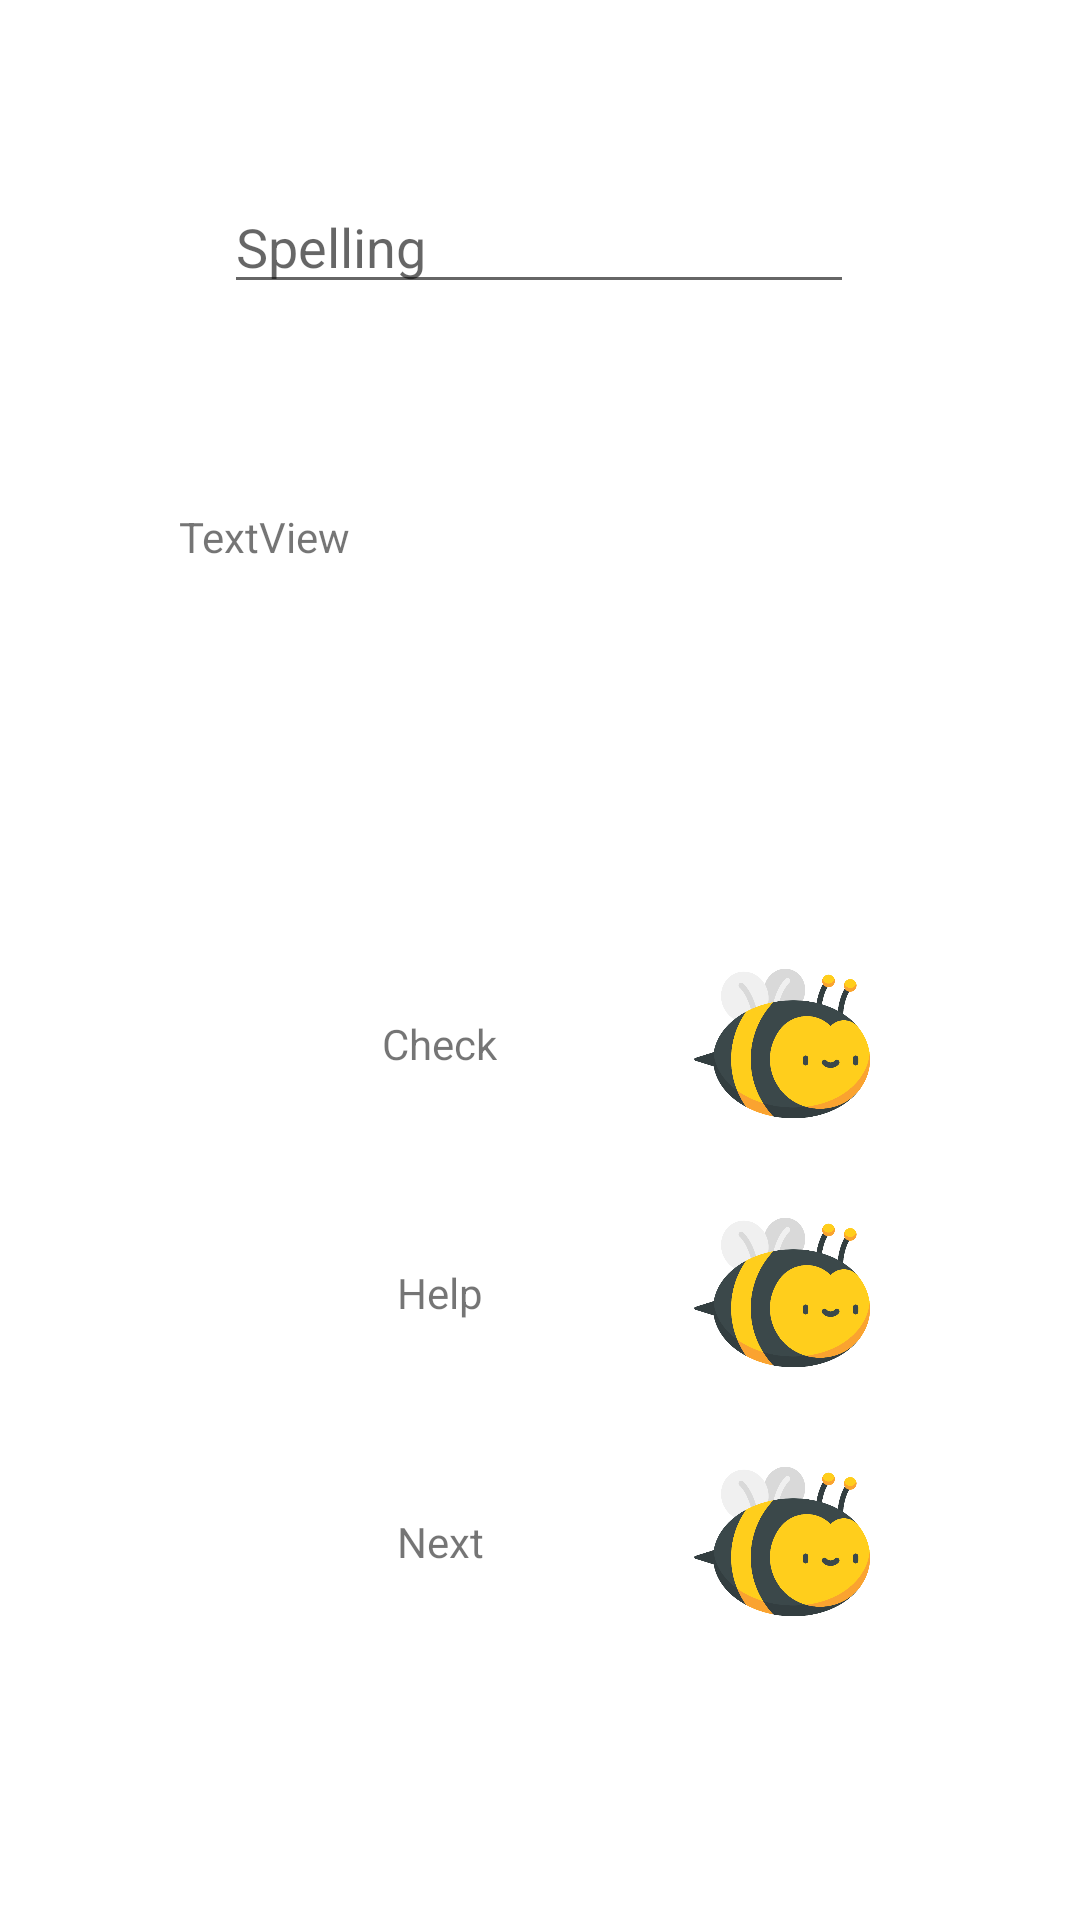

Where to tap for icons on this 1080px x 1920px app screen, as [x,y]:
beee: [782,1043], [782,1292], [782,1541]
